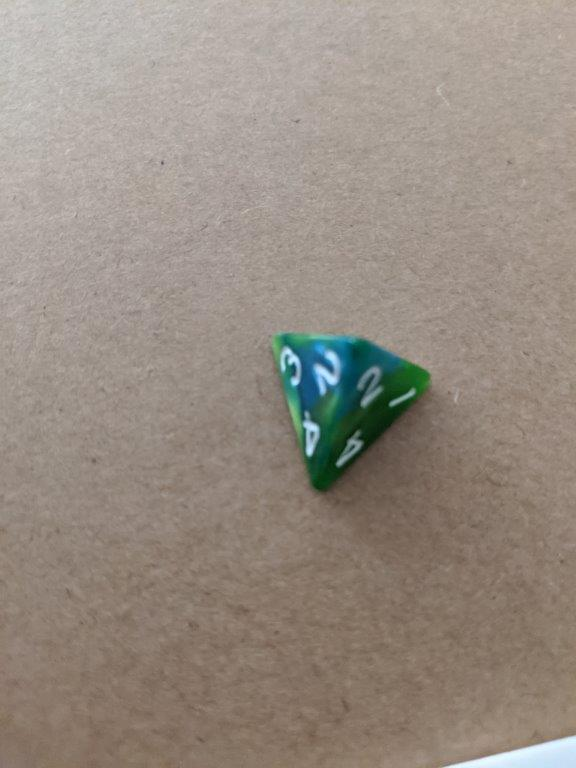d4-2: (266, 325, 434, 498)
